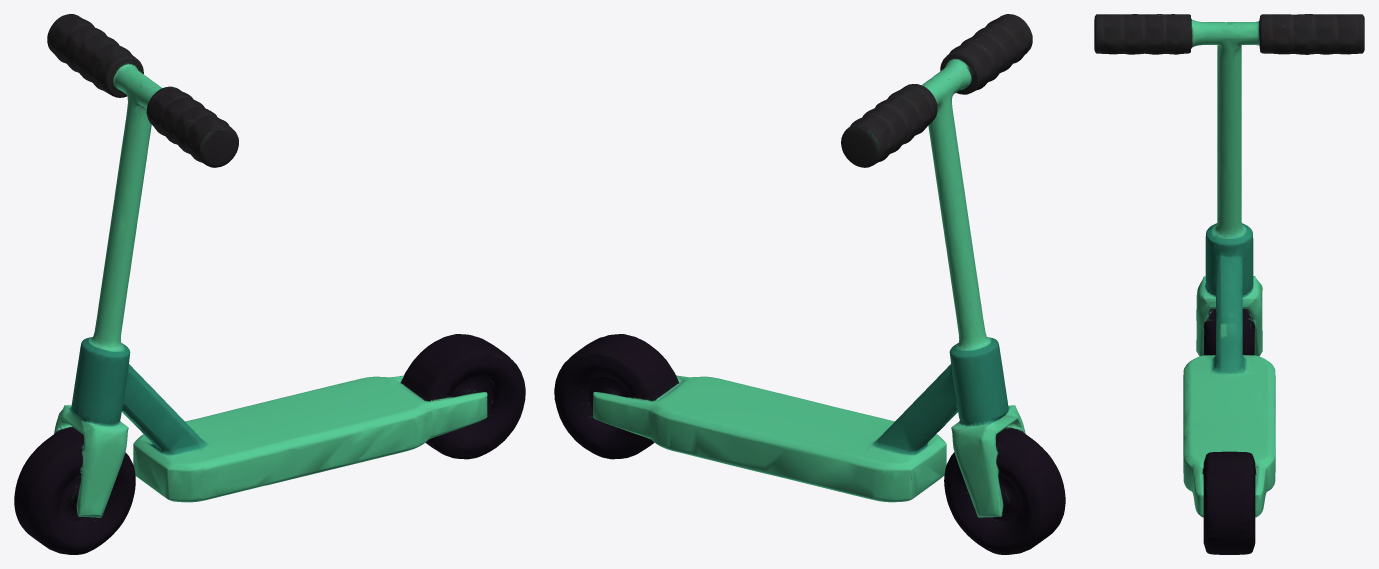
The model's file is scooter.glb.
3 renders of one model, left to right at view 1: azimuth 30°, elevation 25°; view 2: azimuth 150°, elevation 25°; view 3: azimuth 270°, elevation 25°, orthographic. The views are drawn at different scales.
Parts seen in each view (by area): view 1: Mesh_0; view 2: Mesh_0; view 3: Mesh_0.
Boxes of the visible parts, left/top/right/bottom form: Mesh_0: left=14, top=14, right=525, bottom=554; Mesh_0: left=554, top=14, right=1065, bottom=554; Mesh_0: left=1094, top=14, right=1364, bottom=554.
Size of the model in its own units: 1.91 by 1.71 by 1.04.
1 material, 1 textured.
